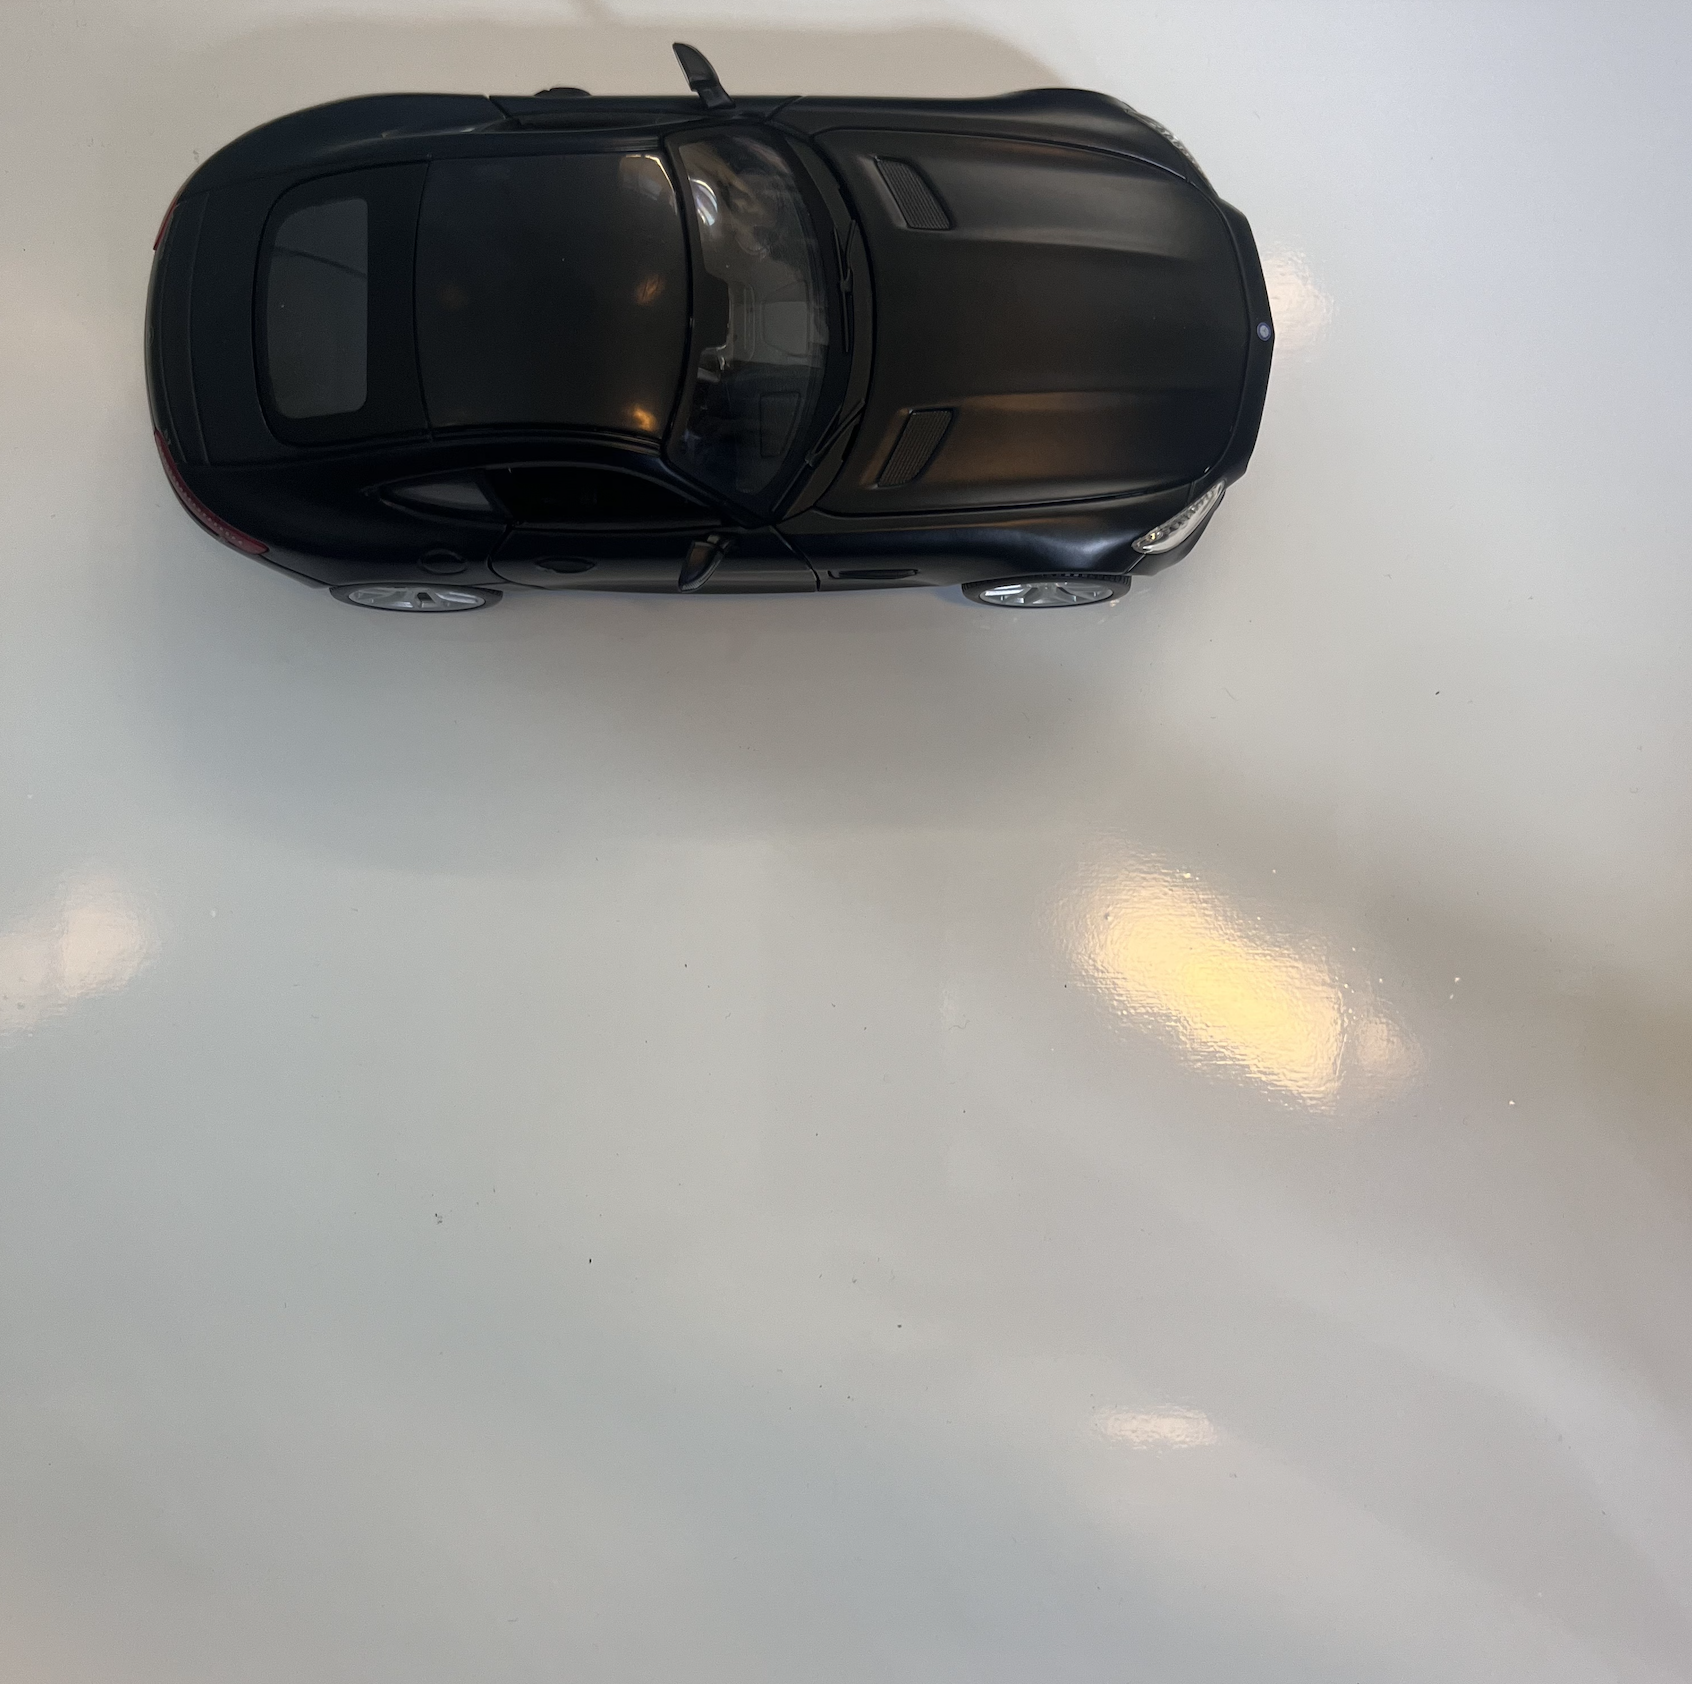car: (144, 41, 1283, 619)
